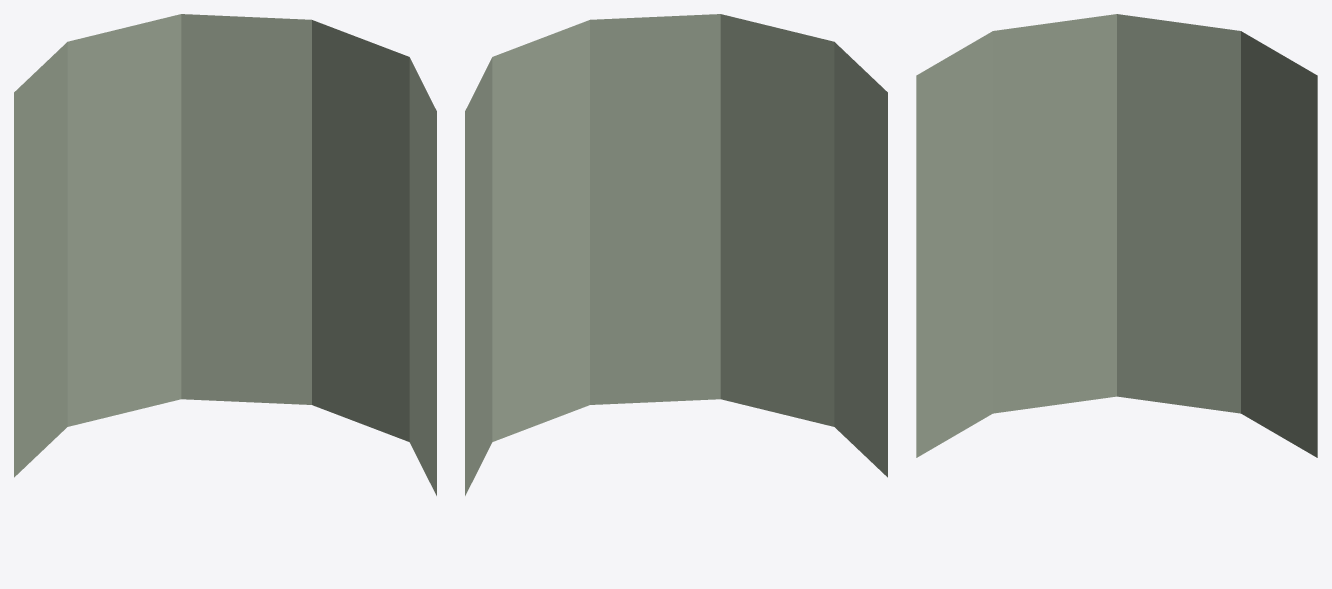
File: rock_moss_01.glb
3 views of the same model, side by side, from view 1: azimuth 30°, elevation 25°; view 2: azimuth 150°, elevation 25°; view 3: azimuth 270°, elevation 25° (orthographic).
Parts seen in each view (by area): view 1: 苔石; view 2: 苔石; view 3: 苔石.
Boxes of the visible parts, left/top/right/bottom form: 苔石: left=14, top=14, right=436, bottom=495; 苔石: left=465, top=14, right=887, bottom=495; 苔石: left=916, top=14, right=1317, bottom=457.
Size of the model in its own units: 1 by 1 by 0.9511.
